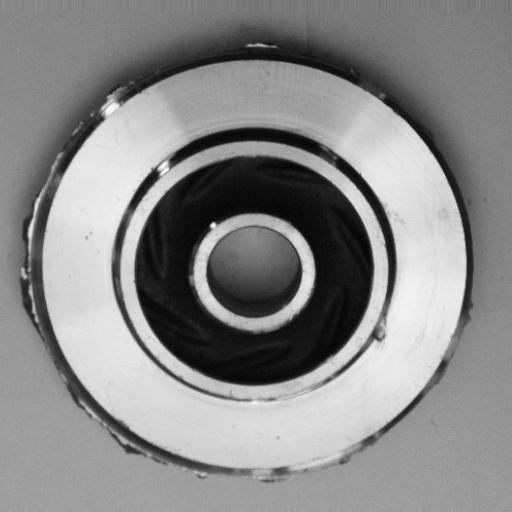casting_with_burr: (17, 36, 476, 484)
crack: (367, 304, 397, 354)
scratch: (139, 144, 192, 202), (240, 380, 335, 410)
